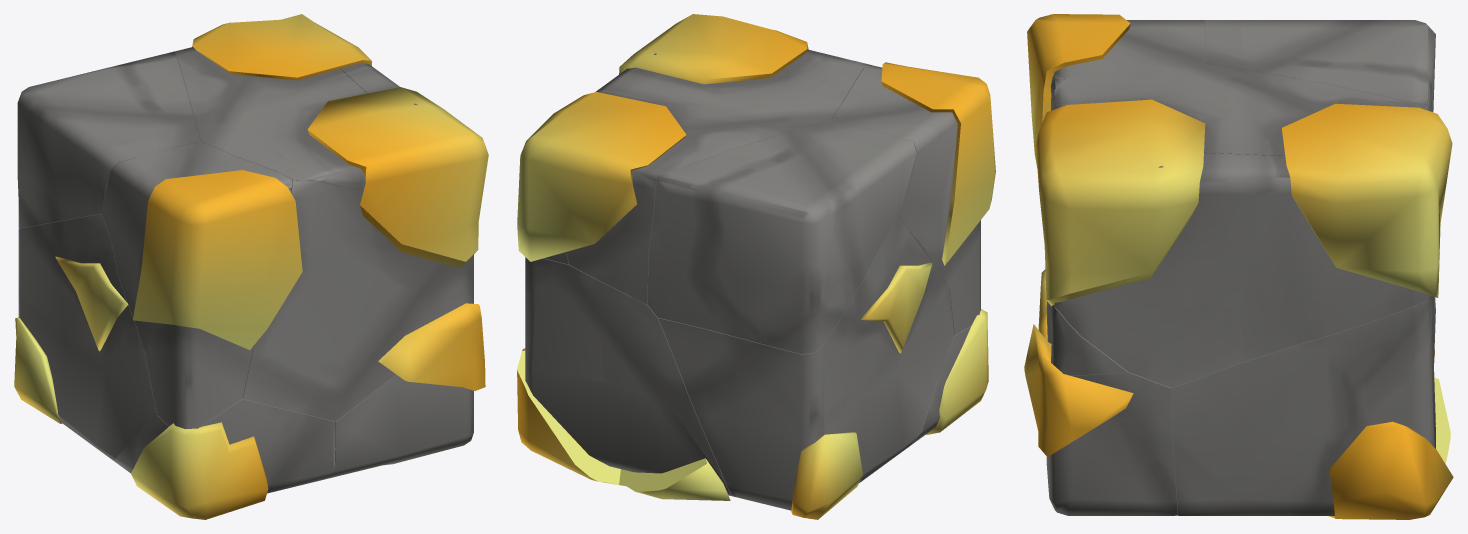
File: Gold.fbx
3 views of the same model, side by side, from view 1: azimuth 30°, elevation 25°; view 2: azimuth 150°, elevation 25°; view 3: azimuth 270°, elevation 25° (orthographic). The views are drawn at different scales.
Parts seen in each view (by area): view 1: Cube_Parts.070, Ore.074, Cube_Parts.072, Ore.073, Cube_Parts.076, Cube_Parts.073, Cube_Parts.077, Ore.069, Cube_Parts.078, Cube_Parts.075, Cube_Parts.071, Ore.039 (+4 smaller); view 2: Cube_Parts.072, Cube_Parts.076, Cube_Parts.079, Cube_Parts.073, Ore.039, Cube_Parts.075, Ore.074, Ore.073, Ore.071, Ore.075, Ore.069, Ore.077 (+4 smaller); view 3: Cube_Parts.074, Cube_Parts.079, Ore.073, Ore.039, Cube_Parts.073, Cube_Parts.072, Cube_Parts.077, Ore.075, Ore.078, Ore.074, Cube_Parts.075, Cube_Parts.070 (+1 smaller).
Part boxes in pixels (x1=…): Cube_Parts.070: x1=242, y1=180, x2=473, y2=421; Ore.074: x1=132, y1=170, x2=302, y2=349; Cube_Parts.072: x1=17, y1=51, x2=200, y2=227; Ore.073: x1=307, y1=87, x2=488, y2=268; Cube_Parts.076: x1=18, y1=213, x2=156, y2=460; Cube_Parts.073: x1=175, y1=47, x2=366, y2=190; Cube_Parts.077: x1=331, y1=374, x2=473, y2=477; Ore.069: x1=131, y1=422, x2=268, y2=519; Cube_Parts.078: x1=145, y1=189, x2=291, y2=429; Cube_Parts.075: x1=101, y1=141, x2=292, y2=354; Cube_Parts.071: x1=114, y1=398, x2=335, y2=493; Ore.039: x1=192, y1=14, x2=371, y2=80; Cube_Parts.072: x1=648, y1=119, x2=916, y2=354; Cube_Parts.076: x1=658, y1=215, x2=954, y2=512; Cube_Parts.079: x1=525, y1=257, x2=733, y2=496; Cube_Parts.073: x1=566, y1=49, x2=864, y2=304; Ore.039: x1=517, y1=92, x2=686, y2=261; Cube_Parts.075: x1=832, y1=65, x2=957, y2=287; Ore.074: x1=881, y1=62, x2=995, y2=265; Ore.073: x1=619, y1=14, x2=808, y2=84; Ore.071: x1=791, y1=432, x2=862, y2=519; Ore.075: x1=517, y1=348, x2=620, y2=485; Ore.069: x1=926, y1=309, x2=988, y2=434; Ore.077: x1=619, y1=458, x2=730, y2=500; Cube_Parts.074: x1=1054, y1=153, x2=1429, y2=387; Cube_Parts.079: x1=1171, y1=295, x2=1435, y2=515; Ore.073: x1=1035, y1=99, x2=1205, y2=306; Ore.039: x1=1281, y1=103, x2=1452, y2=297; Cube_Parts.073: x1=1053, y1=63, x2=1428, y2=155; Cube_Parts.072: x1=1205, y1=20, x2=1435, y2=111; Cube_Parts.077: x1=1046, y1=372, x2=1178, y2=515; Ore.075: x1=1329, y1=421, x2=1453, y2=519; Ore.078: x1=1024, y1=324, x2=1133, y2=456; Ore.074: x1=1027, y1=14, x2=1130, y2=169; Cube_Parts.075: x1=1053, y1=20, x2=1205, y2=79; Cube_Parts.070: x1=1047, y1=78, x2=1128, y2=375.
Size of the model in its own units: 216 by 218 by 224.
